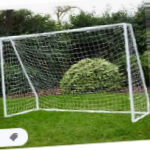goals: (1, 21, 150, 122)
